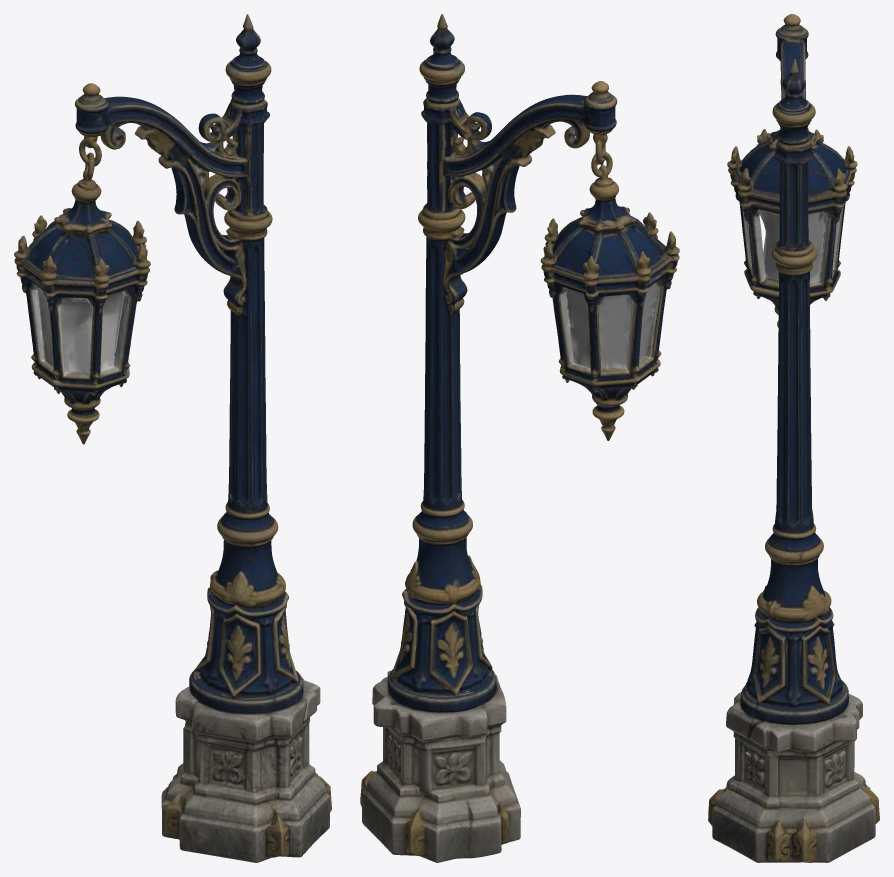
The model's file is royal-street-lantern-b.glb.
The picture shows the model from 3 angles, left to right: view 1: azimuth 30°, elevation 25°; view 2: azimuth 150°, elevation 25°; view 3: azimuth 270°, elevation 25°; orthographic projection. The views are drawn at different scales.
Visible parts, largest first — view 1: mesh_node; view 2: mesh_node; view 3: mesh_node.
Part boxes in pixels (x1,y1,x2,y2): mesh_node: [14, 14, 331, 862]; mesh_node: [360, 14, 679, 862]; mesh_node: [708, 14, 879, 862].
Bounding box in the file's own units: 0.7304 × 1.9 × 0.3821.
Materials: 1 (1 with a texture image).
